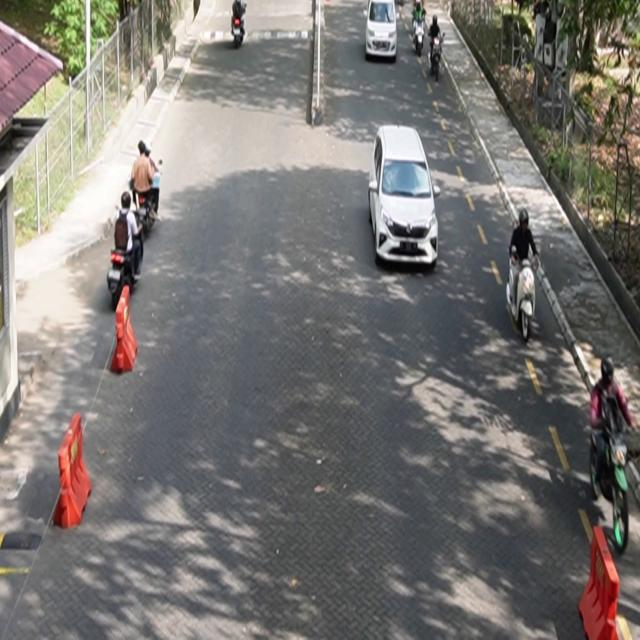car: (369, 125, 441, 268), (365, 1, 398, 63)
